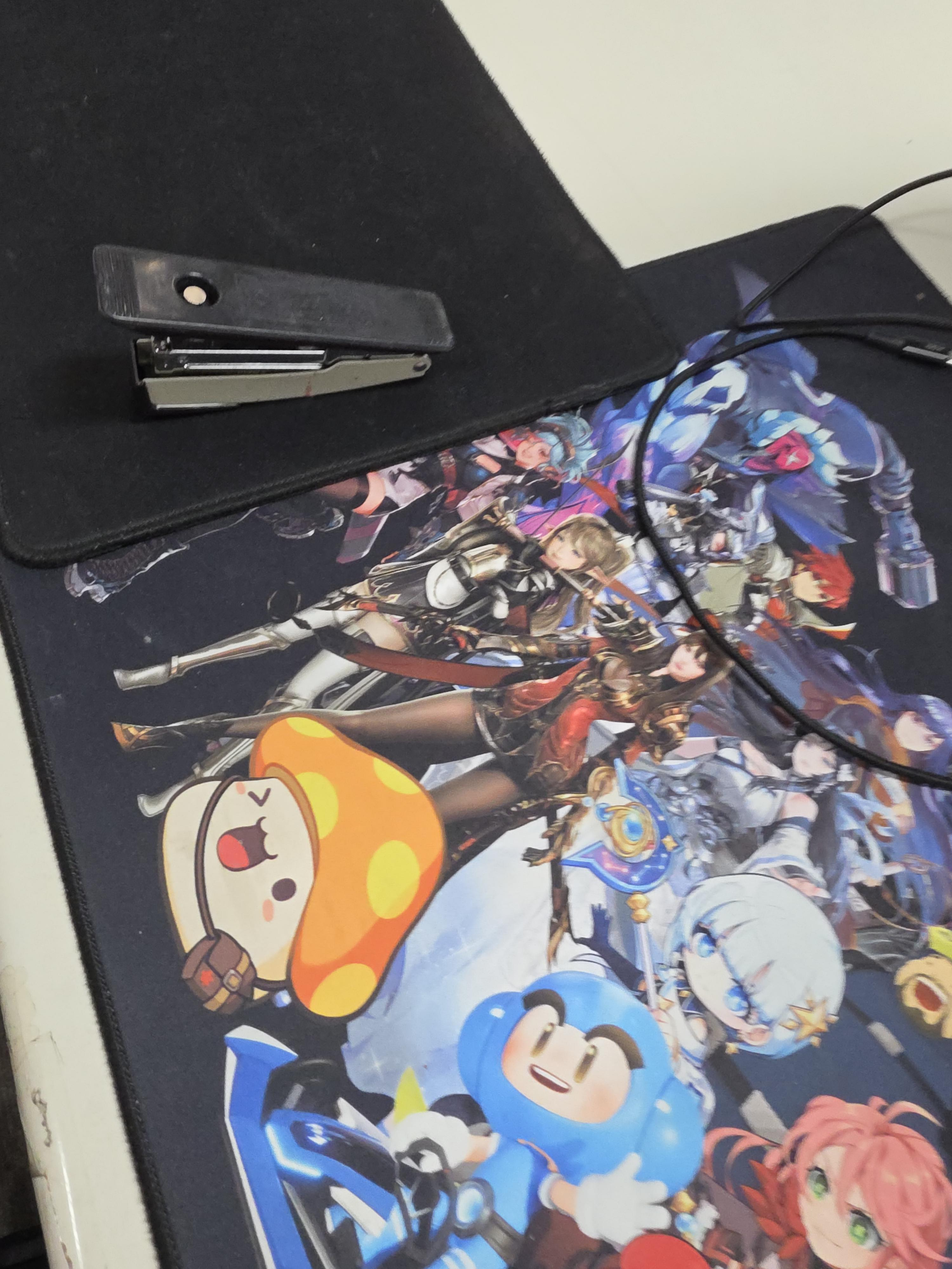stapler: (92, 244, 454, 411)
